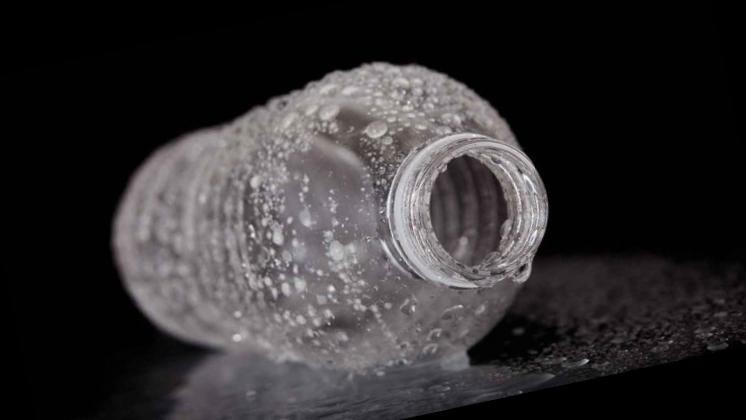plastic: (68, 9, 603, 420)
